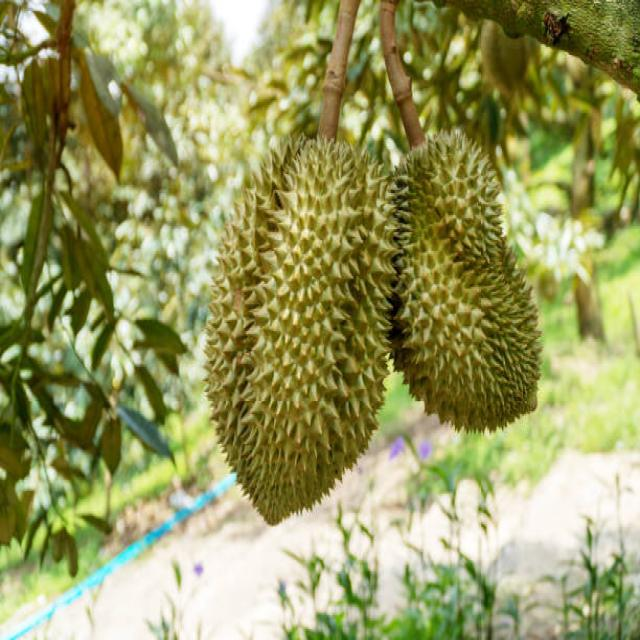immature: (206, 142, 395, 524), (391, 131, 541, 430)
